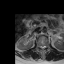CCS_severe_stenosis: (42, 44, 44, 51)
LFS_normal: (46, 43, 47, 49)
LLS_normal: (44, 44, 46, 50)
RFS_normal: (38, 44, 40, 49)
RLS_normal: (40, 44, 42, 50)
